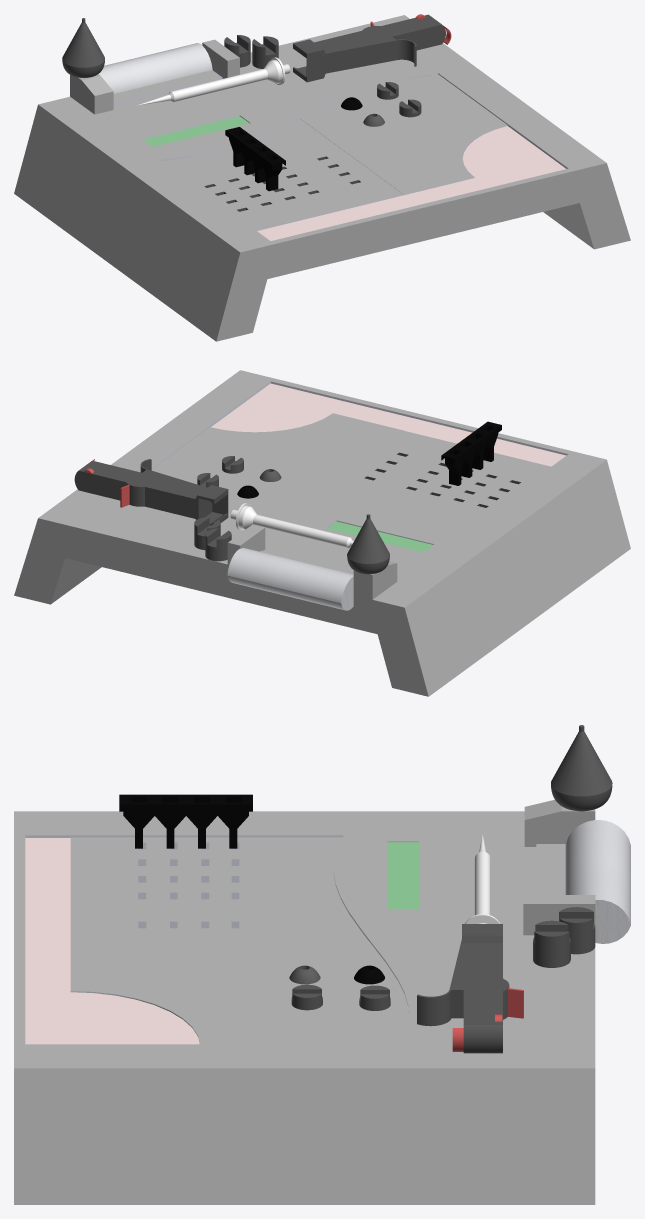
File: mac2.fbx
3 renders of one model, top to bottom at view 1: azimuth 30°, elevation 25°; view 2: azimuth 150°, elevation 25°; view 3: azimuth 270°, elevation 25°, orthographic. The views are drawn at different scales.
Parts seen in each view (by area): view 1: light grey low gloss plastic, light grey soft touch plastic, black low gloss plastic, color-2 : bUTTON%20pAD - 1 : Part1-1 Body-0 Face-26, cotton white 2d, frosted glass, polypropylene, color, black medium gloss plastic, green medium gloss plastic; view 2: light grey low gloss plastic, light grey soft touch plastic, black low gloss plastic, color-2 : bUTTON%20pAD - 1 : Part1-1 Body-0 Face-26, cotton white 2d, frosted glass, polypropylene, black medium gloss plastic, color, green medium gloss plastic; view 3: light grey low gloss plastic, light grey soft touch plastic, color-2 : bUTTON%20pAD - 1 : Part1-1 Body-0 Face-26, black low gloss plastic, cotton white 2d, frosted glass, black medium gloss plastic, color, green medium gloss plastic, polypropylene, red medium gloss plastic.
Part boxes in pixels (x1,y1,x2,y2): light grey low gloss plastic: (14,15,630,341); light grey soft touch plastic: (162,74,507,230); black low gloss plastic: (62,14,445,211); color-2 : bUTTON%20pAD - 1 : Part1-1 Body-0 Face-26: (257,126,565,240); cotton white 2d: (99,43,212,93); frosted glass: (225,127,285,191); polypropylene: (137,57,285,105); color: (113,73,568,230); black medium gloss plastic: (224,35,278,68); green medium gloss plastic: (143,116,249,146); light grey low gloss plastic: (14,370,630,696); light grey soft touch plastic: (151,413,550,534); black low gloss plastic: (74,452,520,574); color-2 : bUTTON%20pAD - 1 : Part1-1 Body-0 Face-26: (211,383,565,466); cotton white 2d: (227,548,353,610); frosted glass: (441,421,501,485); polypropylene: (236,503,353,547); black medium gloss plastic: (194,517,231,561); color: (151,381,568,544); green medium gloss plastic: (327,521,432,552); light grey low gloss plastic: (14,799,595,1204); light grey soft touch plastic: (70,837,408,1044); color-2 : bUTTON%20pAD - 1 : Part1-1 Body-0 Face-26: (25,838,199,1044); black low gloss plastic: (289,725,612,1053); cotton white 2d: (565,820,630,943); frosted glass: (119,794,252,848); black medium gloss plastic: (533,907,595,967); color: (25,835,419,1043); green medium gloss plastic: (387,842,419,909); polypropylene: (465,834,500,923); red medium gloss plastic: (452,989,523,1051).
Bounding box in the file's own units: 43.8 × 16.4 × 39.27.
Materials: 14 (1 with a texture image).
